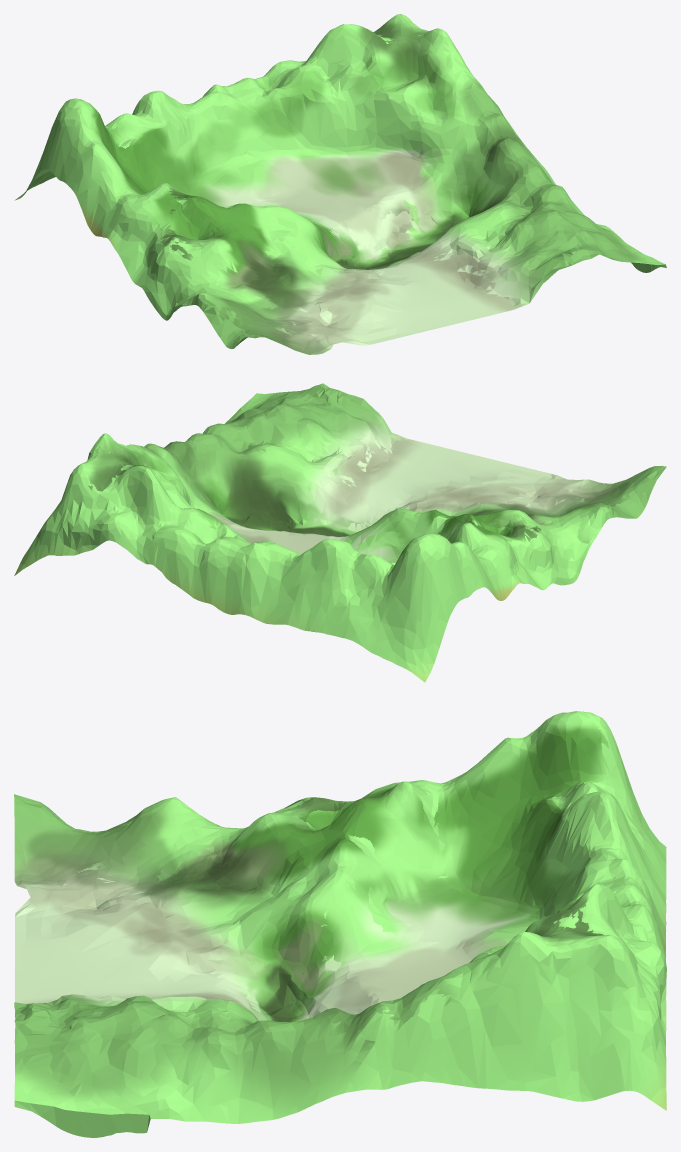
Rendered from TerrainA1_7000p.fbx.
The picture shows the model from 3 angles, top to bottom: view 1: azimuth 30°, elevation 25°; view 2: azimuth 150°, elevation 25°; view 3: azimuth 270°, elevation 25°; orthographic projection. The views are drawn at different scales.
Visible parts, largest first — view 1: Map1_7000p; view 2: Map1_7000p; view 3: Map1_7000p.
Boxes of the visible parts, x1=… form: Map1_7000p: x1=14, y1=14, x2=666, y2=354; Map1_7000p: x1=14, y1=383, x2=666, y2=682; Map1_7000p: x1=14, y1=711, x2=666, y2=1137.
Size of the model in its own units: 20030 by 6438 by 20283.
